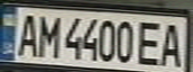0: (115, 17, 139, 64), (97, 17, 118, 63)
4: (60, 14, 84, 61), (78, 15, 100, 62)
A: (157, 19, 187, 69), (12, 10, 42, 57)
E: (136, 18, 166, 66)
M: (33, 11, 60, 58)
